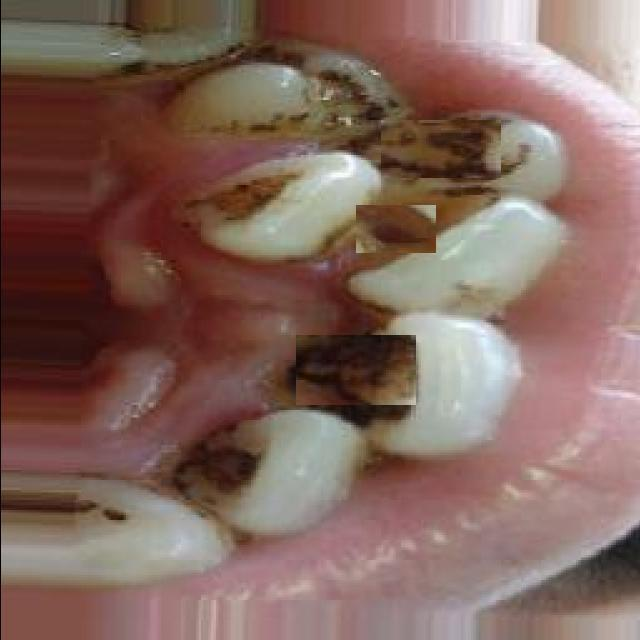decay: (295, 335, 415, 405), (380, 120, 500, 178), (178, 433, 268, 503), (288, 65, 373, 135), (138, 43, 238, 83), (355, 205, 435, 253), (210, 173, 288, 213)
